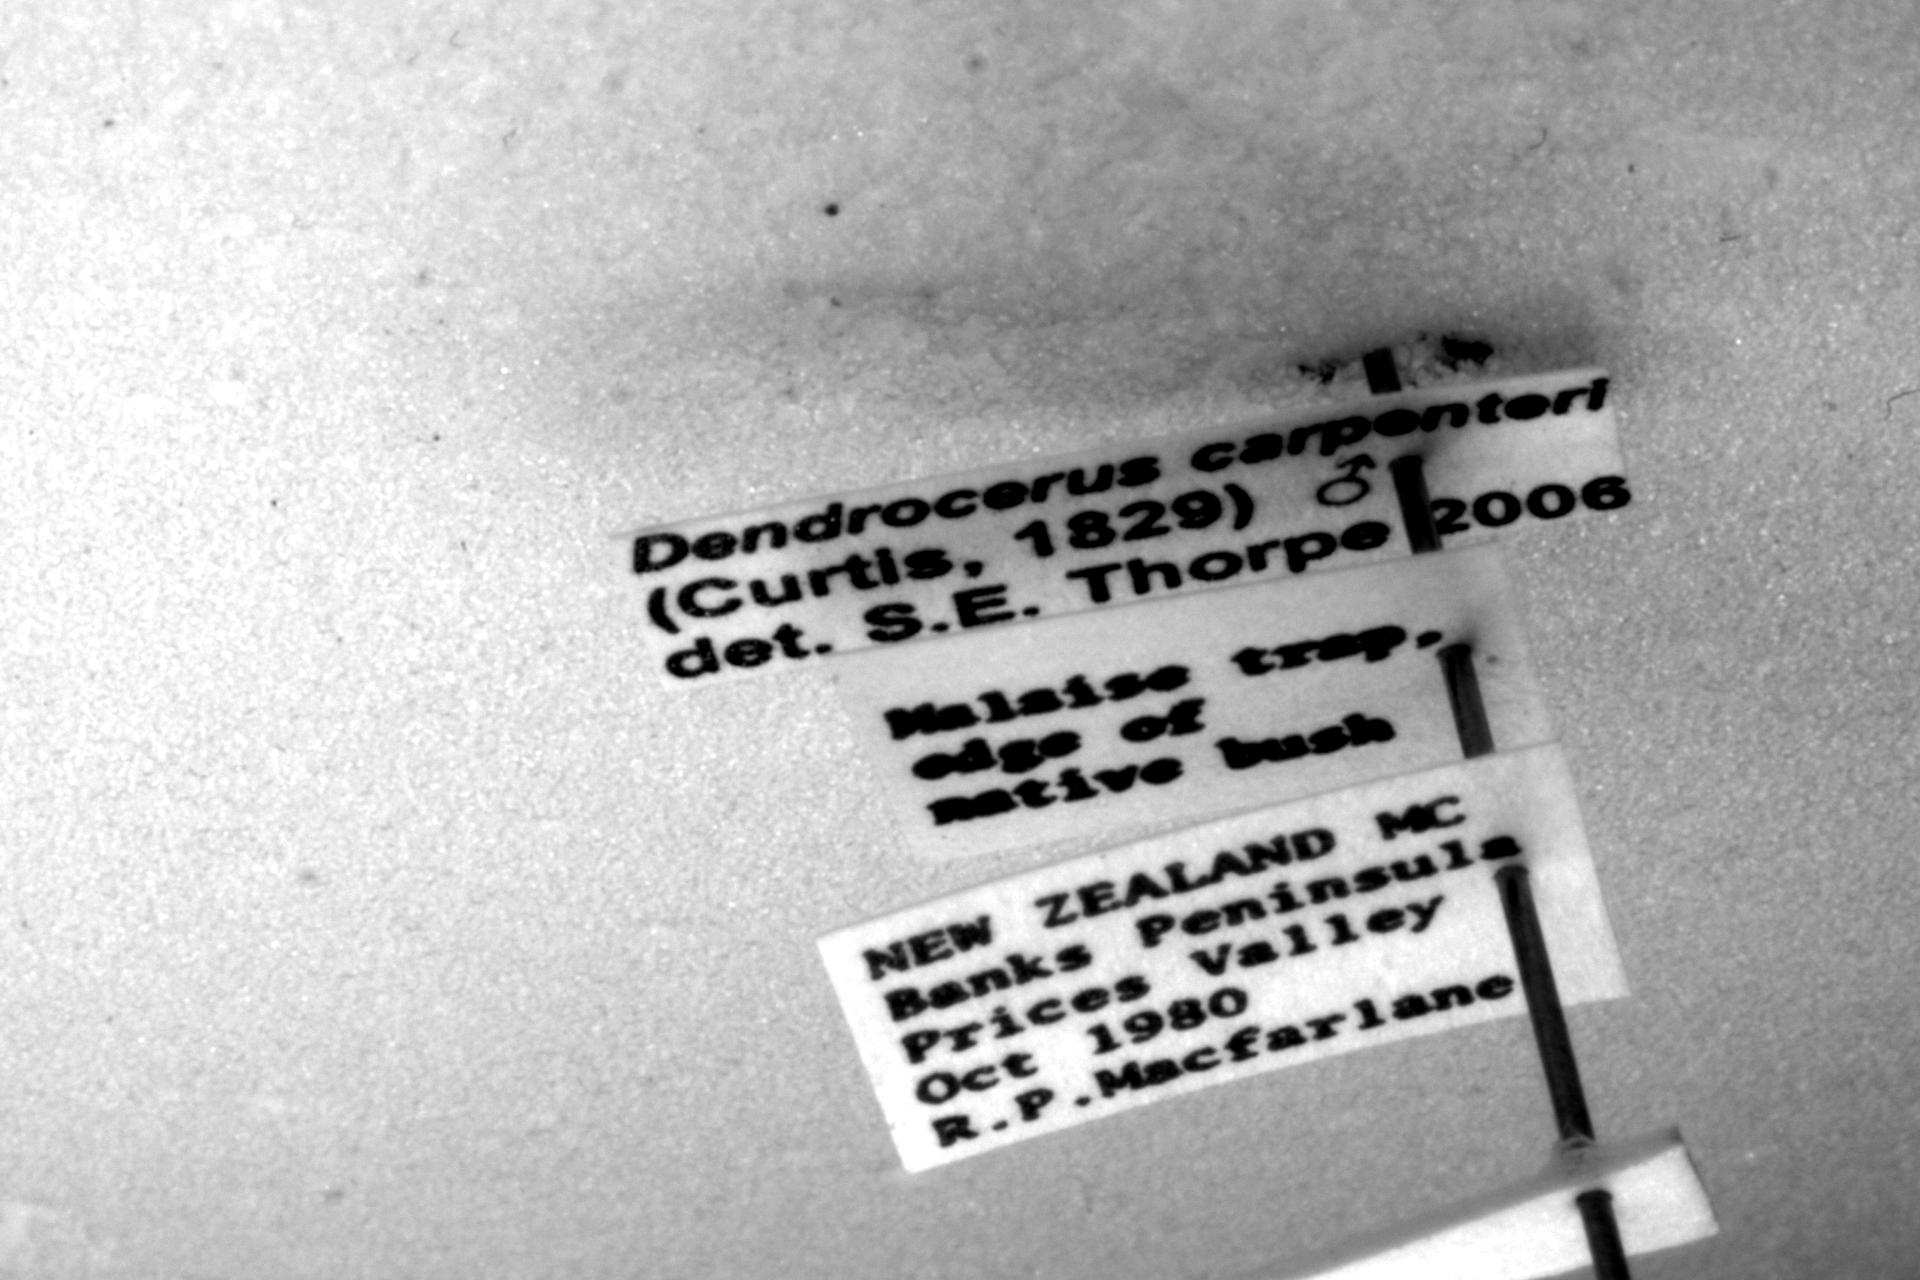typed_label: (817, 746, 1627, 1170), (614, 367, 1631, 679), (836, 544, 1553, 863)
